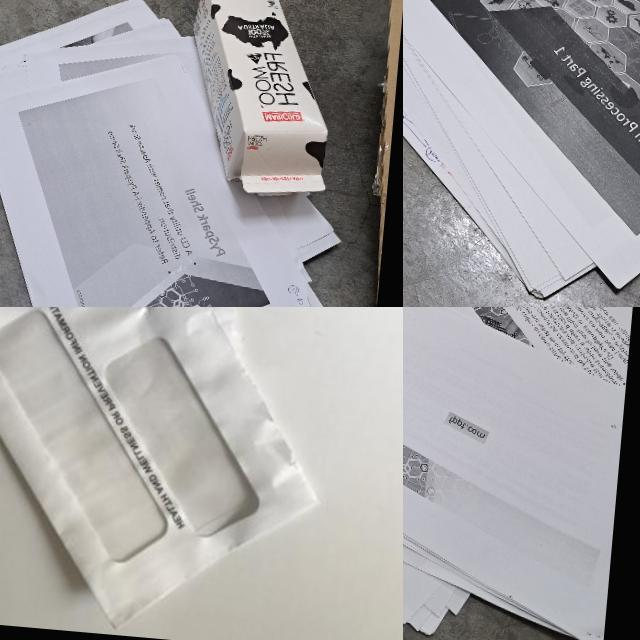caixinha: (178, 0, 345, 201)
papel: (0, 307, 348, 640), (0, 0, 363, 307), (403, 307, 639, 640), (403, 0, 640, 307)
